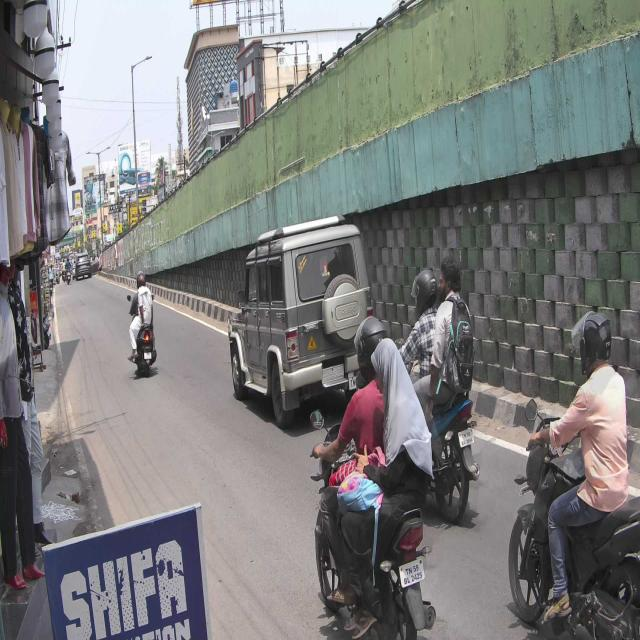double_rider: (307, 316, 439, 640)
single_rider: (508, 308, 640, 639)
